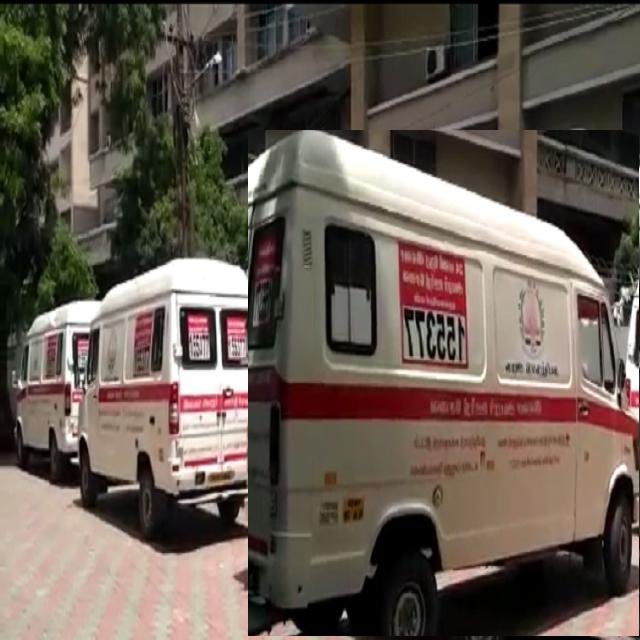emergency: (249, 131, 639, 636), (79, 259, 260, 534), (15, 300, 100, 477)
